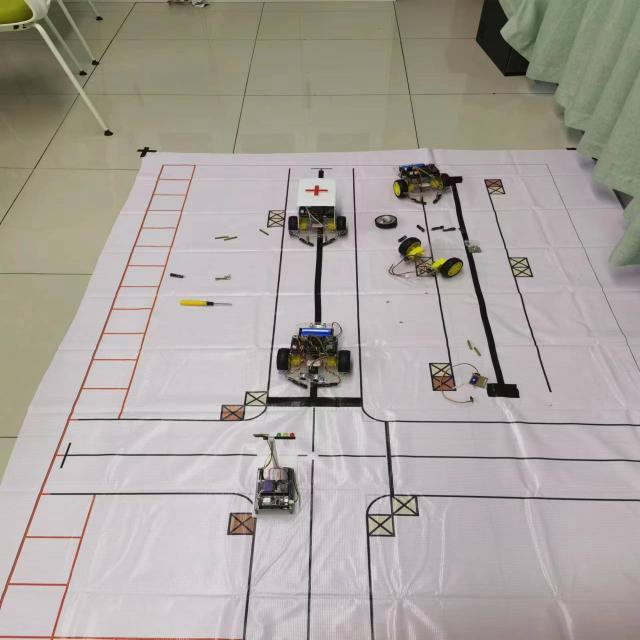RedCross: (302, 183, 332, 198)
